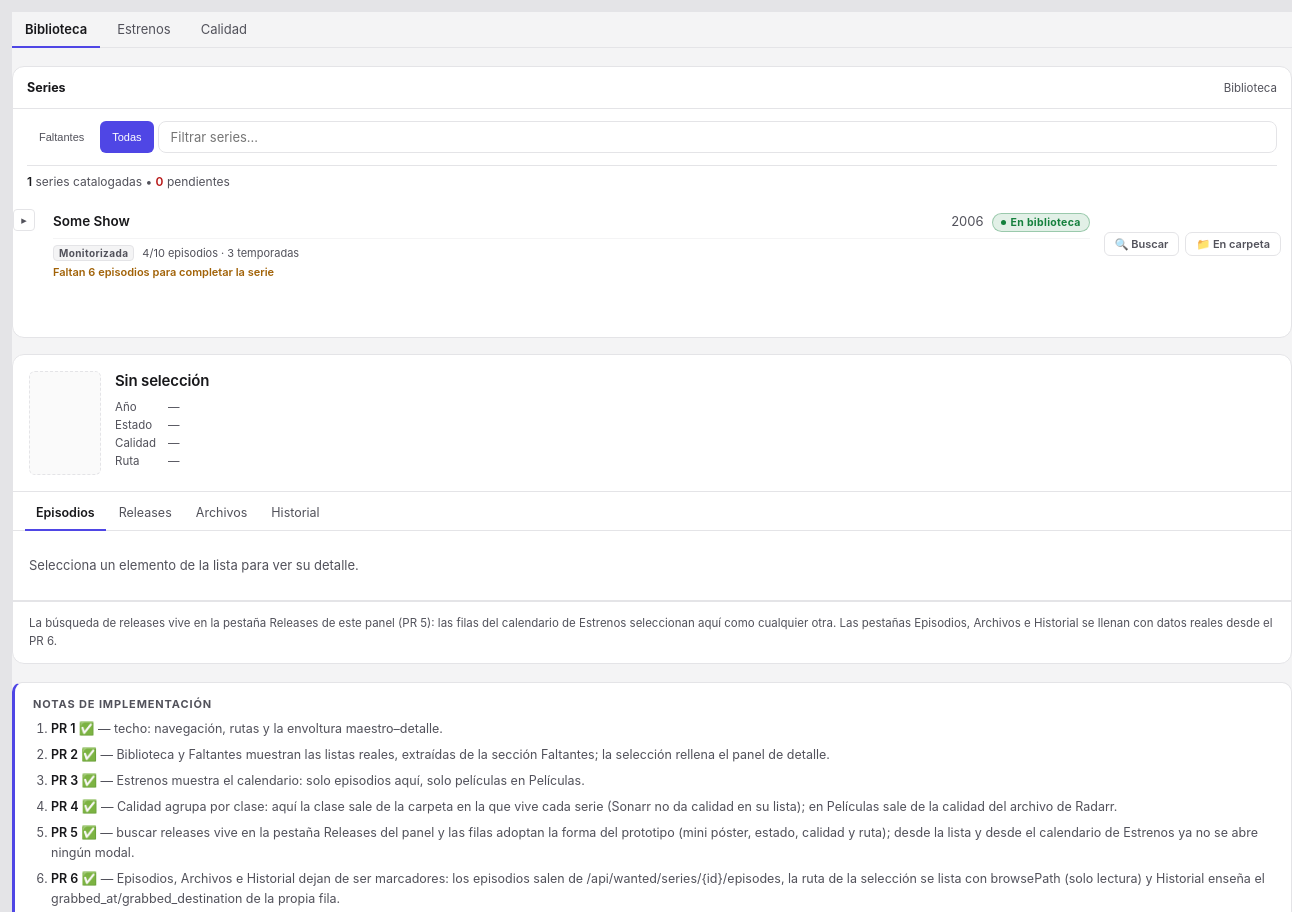
Test: Series · árbol · la cola por episodio (T4, S5) › reads the queue only with the episodes, and "Descargando" outranks the file fact
Expected: the text "Some Show" is shown, [53,212,130,228]
Click the button named "episodios de Some Show".
click(24, 220)  # box [13,209,35,231]
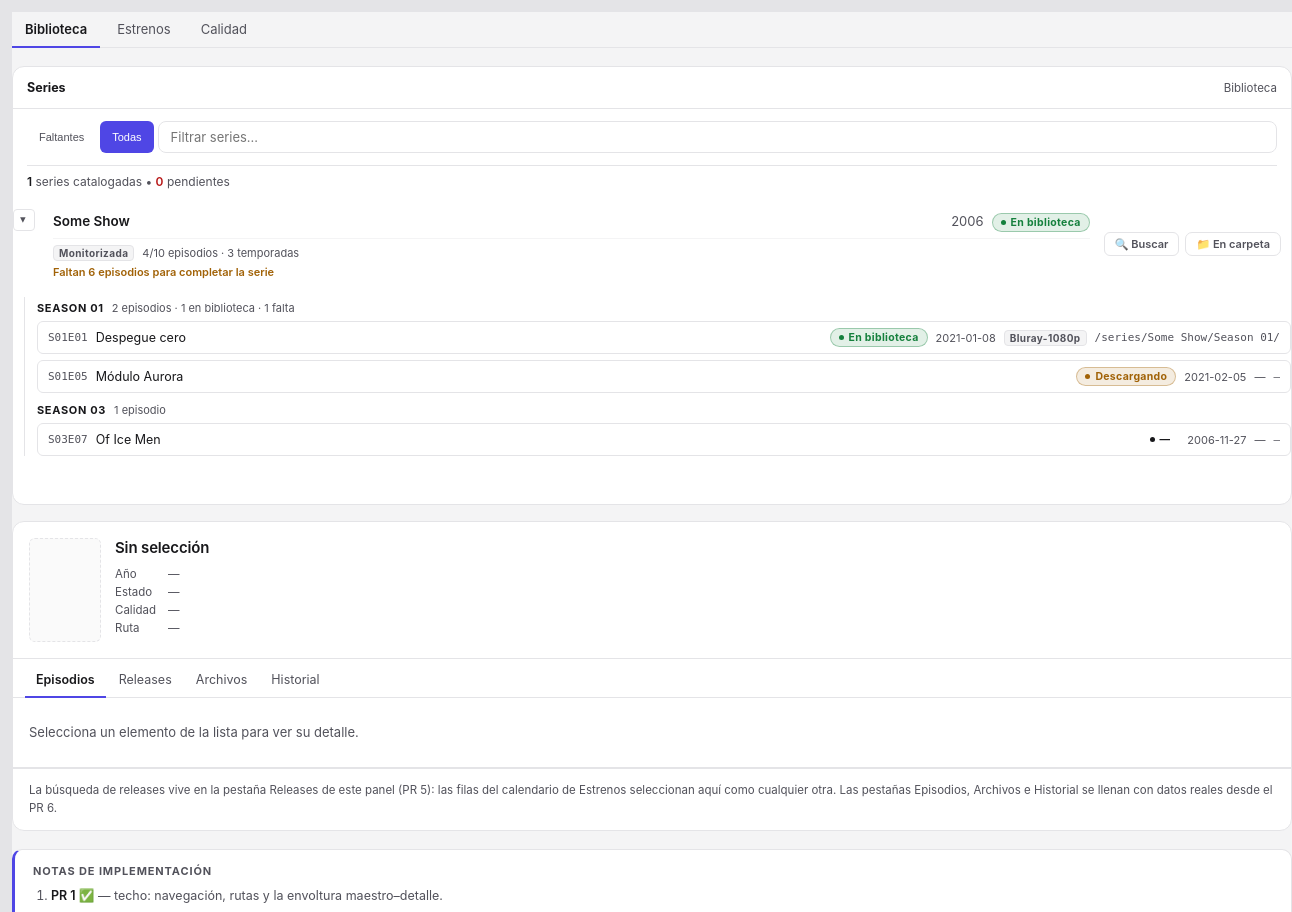
Expected: the text "Despegue cero" is shown, [96,330,186,345]
Expected: the text "Descargando" is shown, [1076,367,1176,386]
Expected: the text "2 episodios · 1 en biblioteca · 1 falta" is shown, [112,301,295,315]
